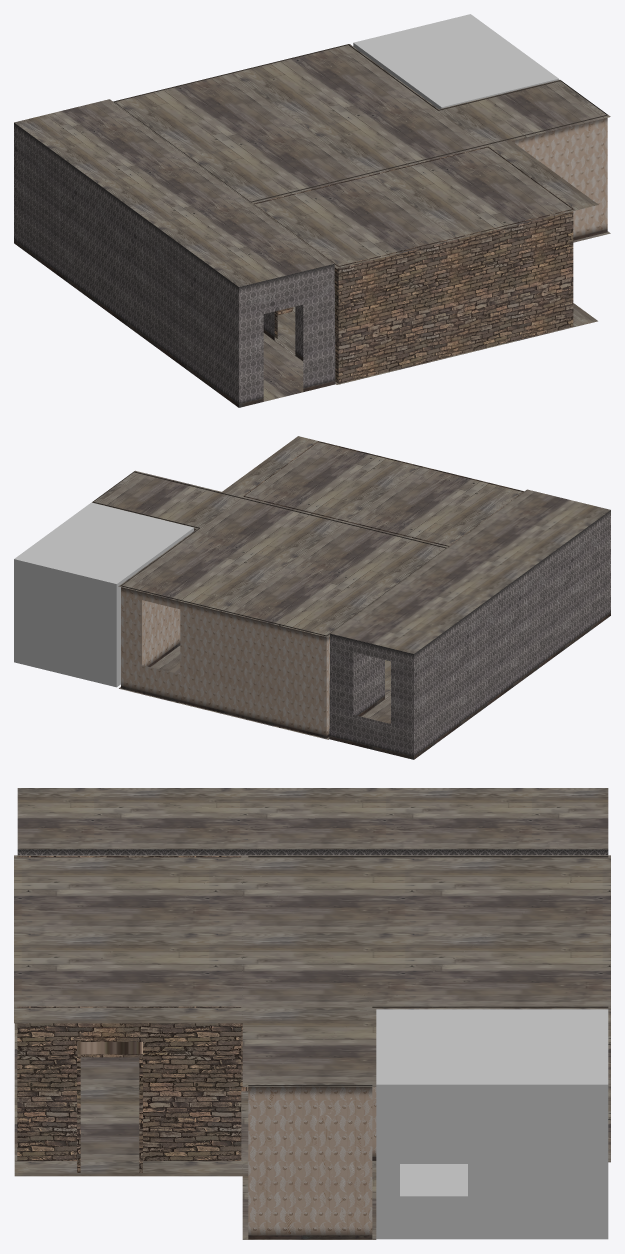
Rendered from architecture.fbx.
3 views of the same model, one above another, from view 1: azimuth 30°, elevation 25°; view 2: azimuth 150°, elevation 25°; view 3: azimuth 270°, elevation 25° (orthographic). The views are drawn at different scales.
Visible parts, largest first — view 1: chambresplafond, couloirmurs, chambresmurs, salledebain, solchambres; view 2: chambresplafond, couloirmurs, chambresmurs, salledebain, solchambres; view 3: chambresplafond, salledebain, chambresmurs, couloirmurs, solchambres.
Boxes of the visible parts, box(x1,y1,x2,y2) form: chambresplafond: box(113, 44, 610, 268); couloirmurs: box(14, 99, 335, 407); chambresmurs: box(113, 44, 607, 383); salledebain: box(353, 14, 558, 108); solchambres: box(274, 231, 610, 384); chambresplafond: box(92, 436, 523, 637); couloirmurs: box(329, 489, 610, 759); chambresmurs: box(92, 441, 523, 738); salledebain: box(14, 502, 193, 687); solchambres: box(119, 645, 390, 739); chambresplafond: box(14, 855, 610, 1086); salledebain: box(376, 1009, 608, 1239); chambresmurs: box(17, 856, 608, 1239); couloirmurs: box(17, 788, 608, 855); solchambres: box(14, 1009, 610, 1239).
Size of the model in its own units: 1222 by 309 by 1051.
